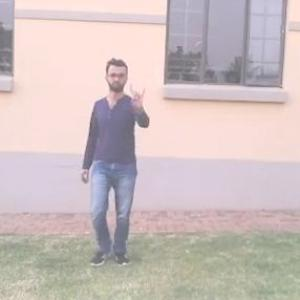takeoff-hand: (127, 81, 149, 116)
